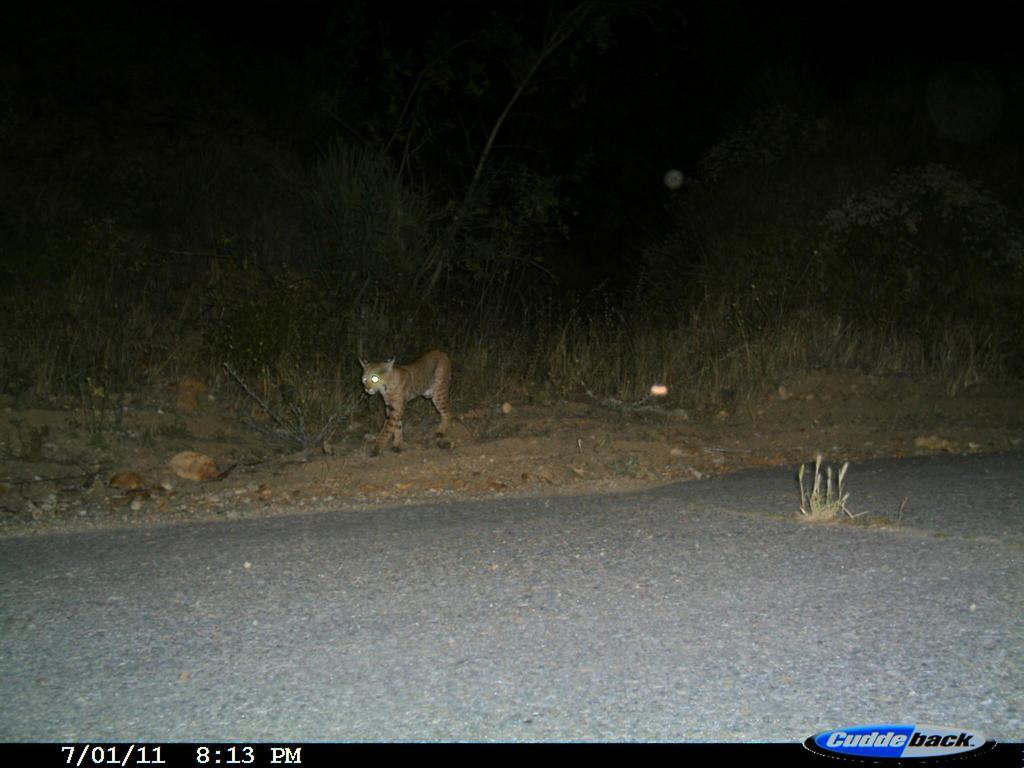bobcat: (353, 344, 465, 461)
